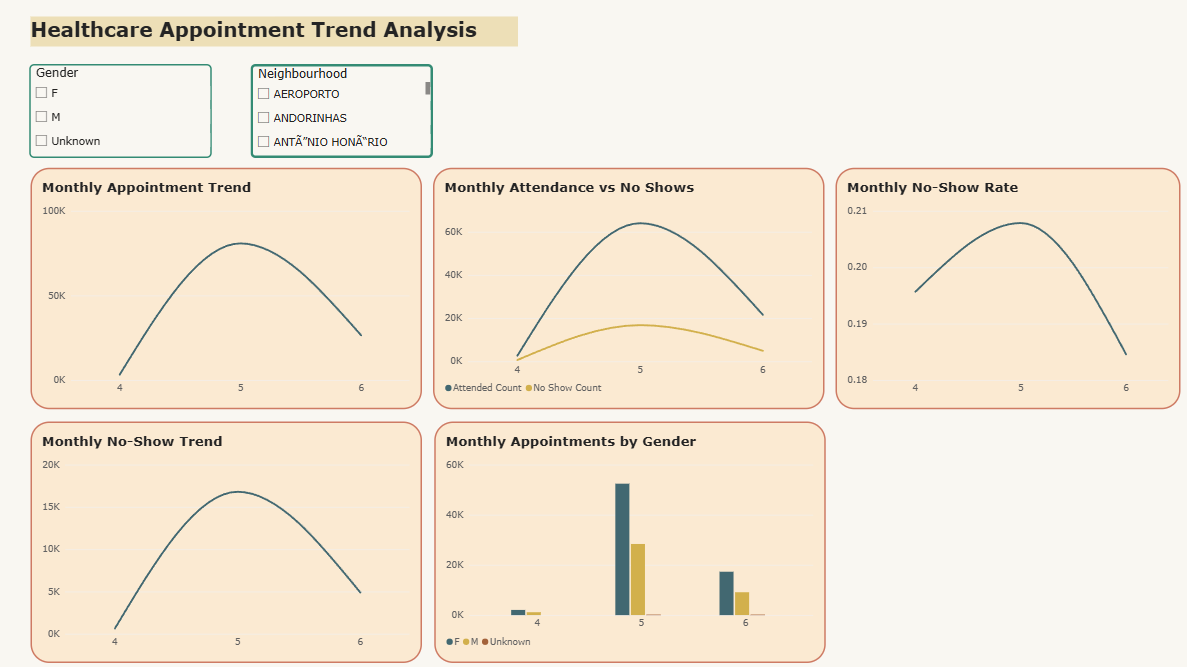

The page's visual inventory and layout, read from the dashboard file:
{"tool":"powerbi","page":{"name":"Trend Analysis","canvas":[1920,1080],"ordinal":1},"visuals":[{"type":"textbox","box":[60,36,780,48],"z":0},{"type":"lineChart","title":"Monthly Appointment Trend","fields":{"Category":["Appointment Date.Month Number"],"Y":["Fact Appointment.Appointment Count"]},"box":[60,278,626,386],"z":1000},{"type":"lineChart","title":"Monthly Attendance vs No Shows","fields":{"Category":["Appointment Date.Month Number"],"Y":["Fact Appointment.Attended Count","Fact Appointment.No Show Count"]},"box":[704,278,626,386],"z":2000},{"type":"lineChart","title":"Monthly No-Show Trend","fields":{"Category":["Appointment Date.Month Number"],"Y":["Fact Appointment.No Show Count"]},"box":[60,684,626,386],"z":3000},{"type":"clusteredColumnChart","title":"Monthly Appointments by Gender","fields":{"Category":["Appointment Date.Month Number"],"Series":["Dim Patient.Gender"],"Y":["Fact Appointment.Appointment Count"]},"box":[706,684,626,386],"z":4000},{"type":"lineChart","title":"Monthly No-Show Rate","fields":{"Category":["Appointment Date.Month Number"],"Y":["Fact Appointment.No Show Rate Value"]},"box":[1348,278,552,386],"z":5000},{"type":"slicer","fields":{"Values":["Dim Patient.Gender"]},"box":[58,112,292,150],"z":6000},{"type":"slicer","fields":{"Values":["Dim Location.Neighbourhood"]},"box":[412,112,292,150],"z":7000}]}

Visuals, with their boxes in screenshot pixels (x1, y1, x2, y2), scaled from the page's 1920x1080 canvas onto the 1187x667 screenshot:
textbox: <region>37, 22, 519, 52</region>
"Monthly Appointment Trend" lineChart: <region>37, 172, 424, 410</region>
"Monthly Attendance vs No Shows" lineChart: <region>435, 172, 822, 410</region>
"Monthly No-Show Trend" lineChart: <region>37, 422, 424, 661</region>
"Monthly Appointments by Gender" clusteredColumnChart: <region>436, 422, 823, 661</region>
"Monthly No-Show Rate" lineChart: <region>833, 172, 1175, 410</region>
slicer - Dim Patient.Gender: <region>36, 69, 216, 162</region>
slicer - Dim Location.Neighbourhood: <region>255, 69, 435, 162</region>
